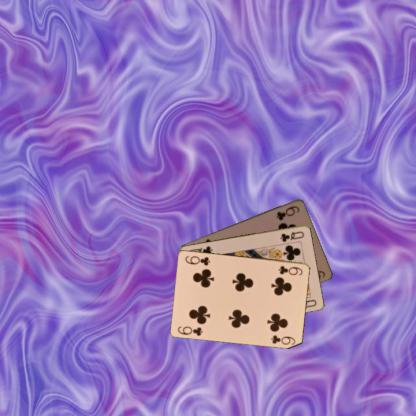6c: (274, 203, 301, 221), (175, 323, 204, 337), (276, 263, 304, 276)
Qc: (277, 229, 305, 243)
